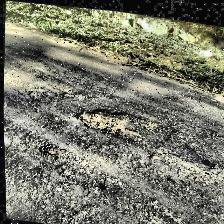pothole: (68, 100, 174, 146)
